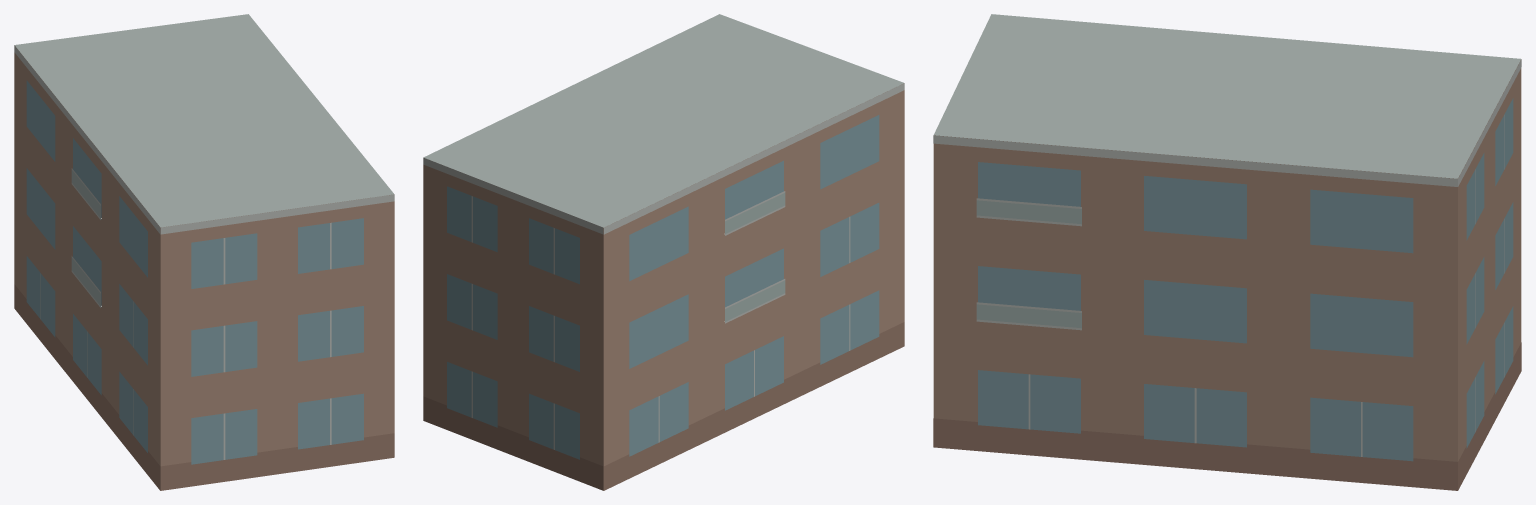
File: survey-upis-32830691.glb
3 renders of one model, left to right at view 1: azimuth 30°, elevation 25°; view 2: azimuth 150°, elevation 25°; view 3: azimuth 270°, elevation 25°, orthographic. The views are drawn at different scales.
Visible parts, largest first — view 1: survey-upis-32830691.tmp; view 2: survey-upis-32830691.tmp; view 3: survey-upis-32830691.tmp.
Part boxes in pixels (x1,y1,x2,y2): survey-upis-32830691.tmp: [14, 14, 394, 490]; survey-upis-32830691.tmp: [423, 14, 904, 490]; survey-upis-32830691.tmp: [933, 14, 1521, 490].
Bounding box in the file's own units: 10.37 × 9.15 × 15.63.
